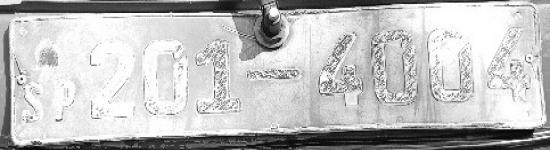-: (244, 61, 303, 84)
0: (370, 25, 422, 116), (424, 24, 477, 113), (141, 32, 191, 125)
1: (192, 36, 243, 117)
2: (83, 32, 139, 126)
4: (312, 29, 368, 113), (482, 22, 534, 112)
P: (51, 76, 79, 126)
S: (23, 80, 47, 129)
